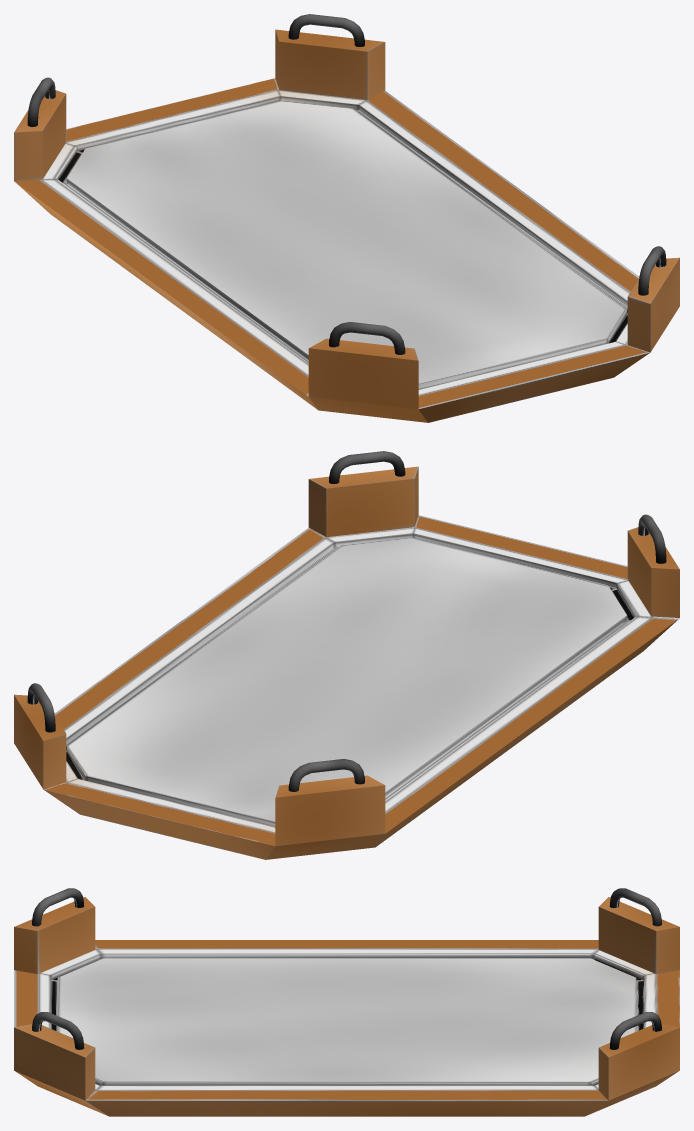
File: platform3.fbx
3 renders of one model, top to bottom at view 1: azimuth 30°, elevation 25°; view 2: azimuth 150°, elevation 25°; view 3: azimuth 270°, elevation 25°, orthographic. The views are drawn at different scales.
Parts seen in each view (by area): view 1: Plane.001; view 2: Plane.001; view 3: Plane.001.
Part boxes in pixels (bbox=[...]): Plane.001: bbox=[14, 14, 679, 422]; Plane.001: bbox=[14, 451, 679, 859]; Plane.001: bbox=[14, 888, 679, 1116].
Size of the model in its own units: 800 by 211 by 1400.
